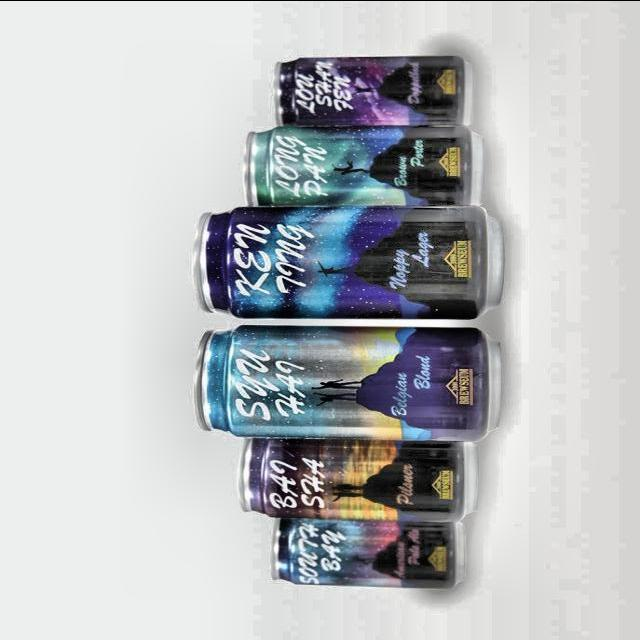Aluminum Can: (187, 200, 508, 322), (186, 322, 504, 443), (229, 439, 486, 525), (234, 122, 487, 208), (269, 50, 474, 129), (264, 518, 468, 592)
